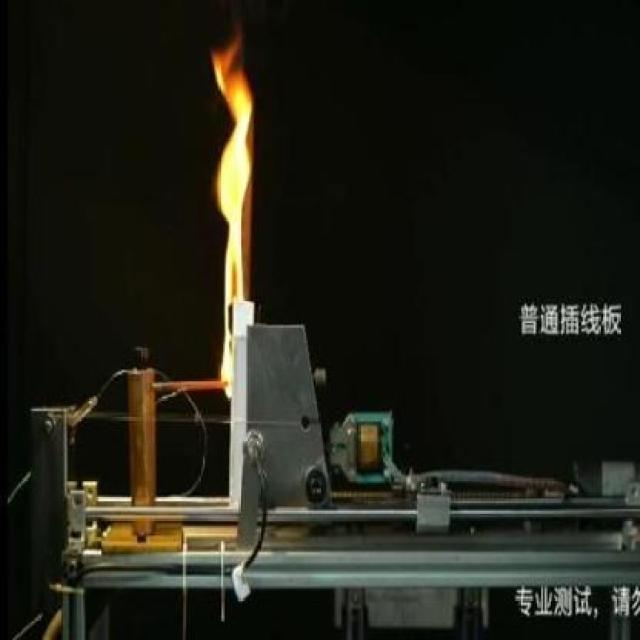Fire: (210, 31, 260, 402)
